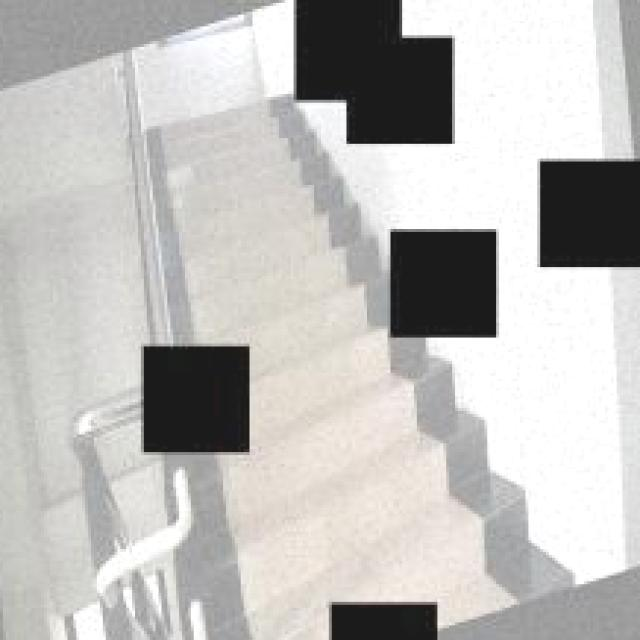upstair: (157, 157, 365, 295)
